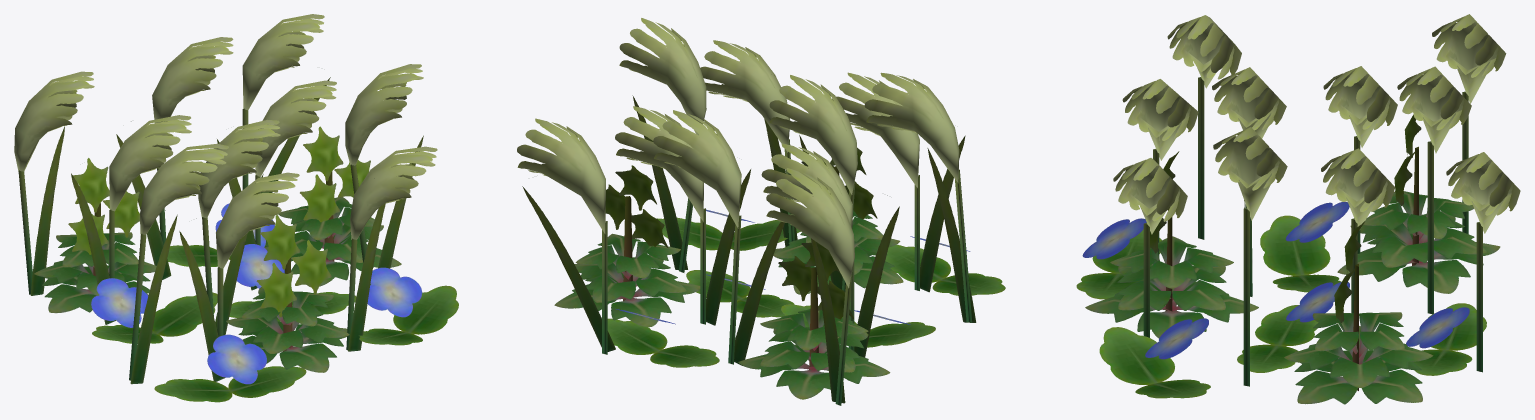
File: weed-fall.glb
3 renders of one model, left to right at view 1: azimuth 30°, elevation 25°; view 2: azimuth 150°, elevation 25°; view 3: azimuth 270°, elevation 25°, orthographic. The views are drawn at different scales.
Size of the model in its own units: 10.61 by 7.01 by 10.62.
3 materials, 3 textured.
